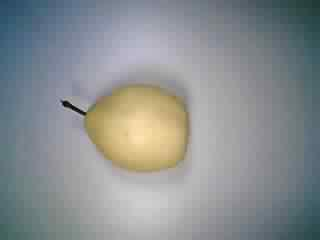pear: (51, 69, 203, 177)
